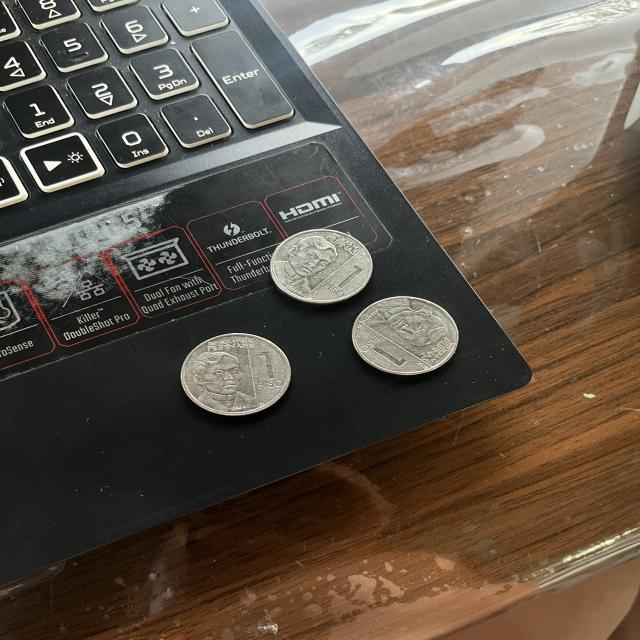1_New_Front: (362, 299, 458, 373), (187, 338, 280, 407), (284, 236, 361, 291)
